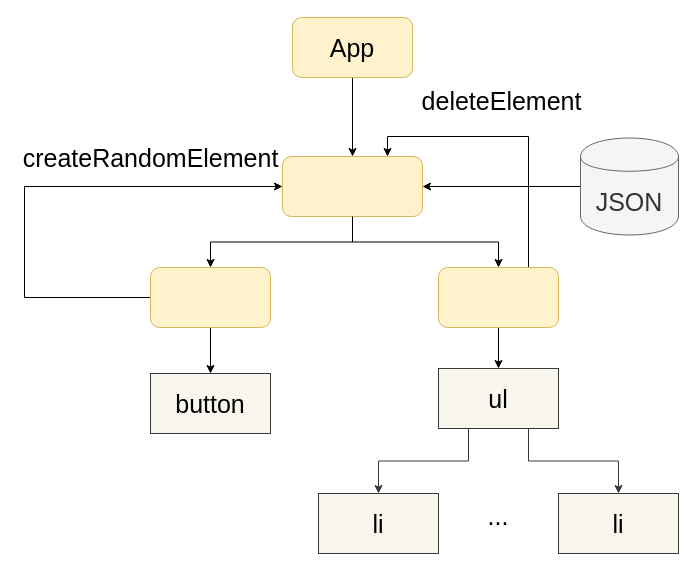
The diagram is 696 pixels wide and 571 high, and some of its shapes have lost their labels. Each missing label, with the centre of its shape:
Contenedor: (352,186)
Lista: (498,297)
Panel de control: (210,297)
